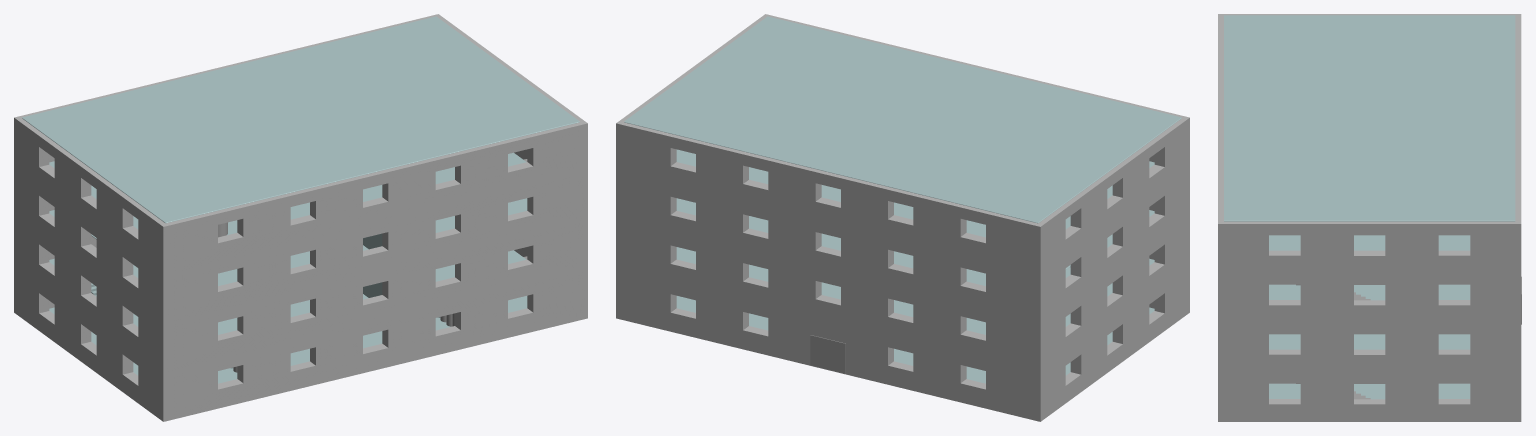
File: B5_floored.fbx
3 renders of one model, left to right at view 1: azimuth 30°, elevation 25°; view 2: azimuth 150°, elevation 25°; view 3: azimuth 270°, elevation 25°, orthographic.
Visible parts, largest first — view 1: pPlane2, pCube27, pCube22, pCube25, pCube12, Wall27, Wall25, Wall22, Wall23, pPlane1, pCube26, Floor9 (+5 smaller); view 2: pPlane2, pCube26, pCube23, pCube24, pCube18, Wall27, Wall25, Wall23, Wall22, Floor2, Floor9, Floor8 (+5 smaller); view 3: pPlane2, Wall28, Wall21, Wall24, Wall26, pCube26, pCube27, Floor2, Floor9, pPlane1, Floor8, Wall27 (+6 smaller).
Part boxes in pixels (x1,y1,x2,y2): pPlane2: [22, 16, 579, 223]; pCube27: [157, 119, 587, 275]; pCube22: [157, 221, 587, 372]; pCube25: [157, 172, 587, 323]; pCube12: [157, 270, 587, 421]; Wall27: [14, 115, 173, 275]; Wall25: [14, 166, 173, 324]; Wall22: [14, 264, 173, 421]; Wall23: [14, 215, 173, 372]; pPlane1: [49, 296, 527, 383]; pCube26: [14, 14, 443, 170]; Floor9: [49, 152, 526, 235]; pPlane2: [624, 16, 1181, 223]; pCube26: [616, 119, 1045, 274]; pCube23: [616, 221, 1043, 372]; pCube24: [616, 172, 1044, 323]; pCube18: [616, 270, 1044, 421]; Wall27: [1030, 115, 1189, 275]; Wall25: [1030, 166, 1189, 324]; Wall23: [1030, 215, 1189, 372]; Wall22: [1030, 264, 1189, 421]; Floor2: [676, 247, 1154, 334]; Floor9: [676, 149, 1154, 237]; Floor8: [676, 198, 1154, 285]; pPlane2: [1224, 15, 1515, 221]; Wall28: [1218, 219, 1521, 273]; Wall21: [1218, 372, 1521, 421]; Wall24: [1218, 323, 1521, 372]; Wall26: [1218, 273, 1521, 322]; pCube26: [1509, 14, 1521, 273]; pCube27: [1218, 14, 1230, 273]; Floor2: [1269, 334, 1470, 349]; Floor9: [1269, 235, 1470, 250]; pPlane1: [1269, 383, 1470, 399]; Floor8: [1269, 284, 1470, 300]; Wall27: [1218, 14, 1521, 18].
Bounding box in the file's own units: 41 × 18.11 × 25.05.
